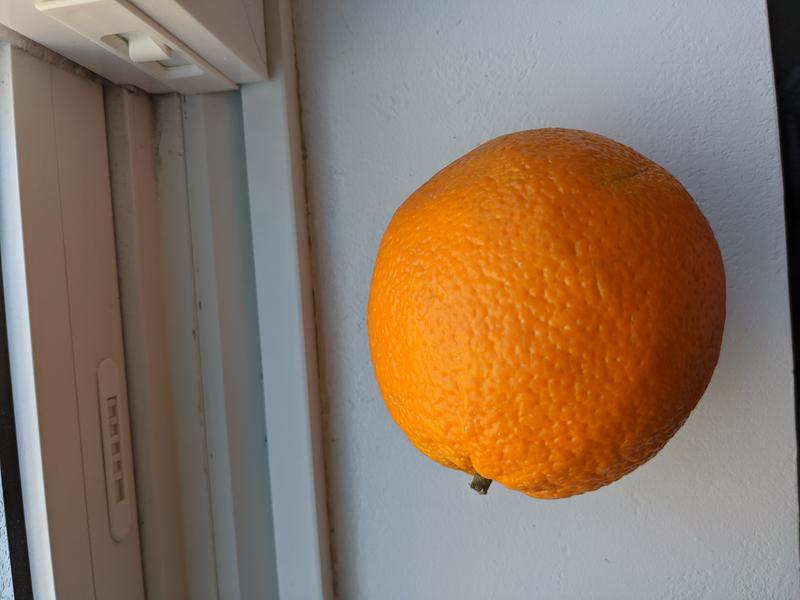orange: (364, 126, 728, 502)
